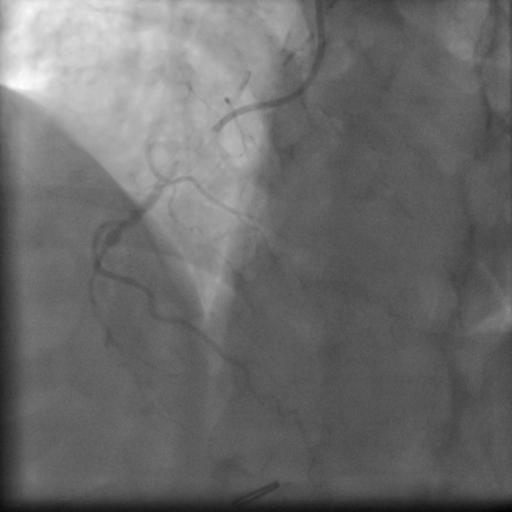Stenosis: (168, 126, 220, 164)
